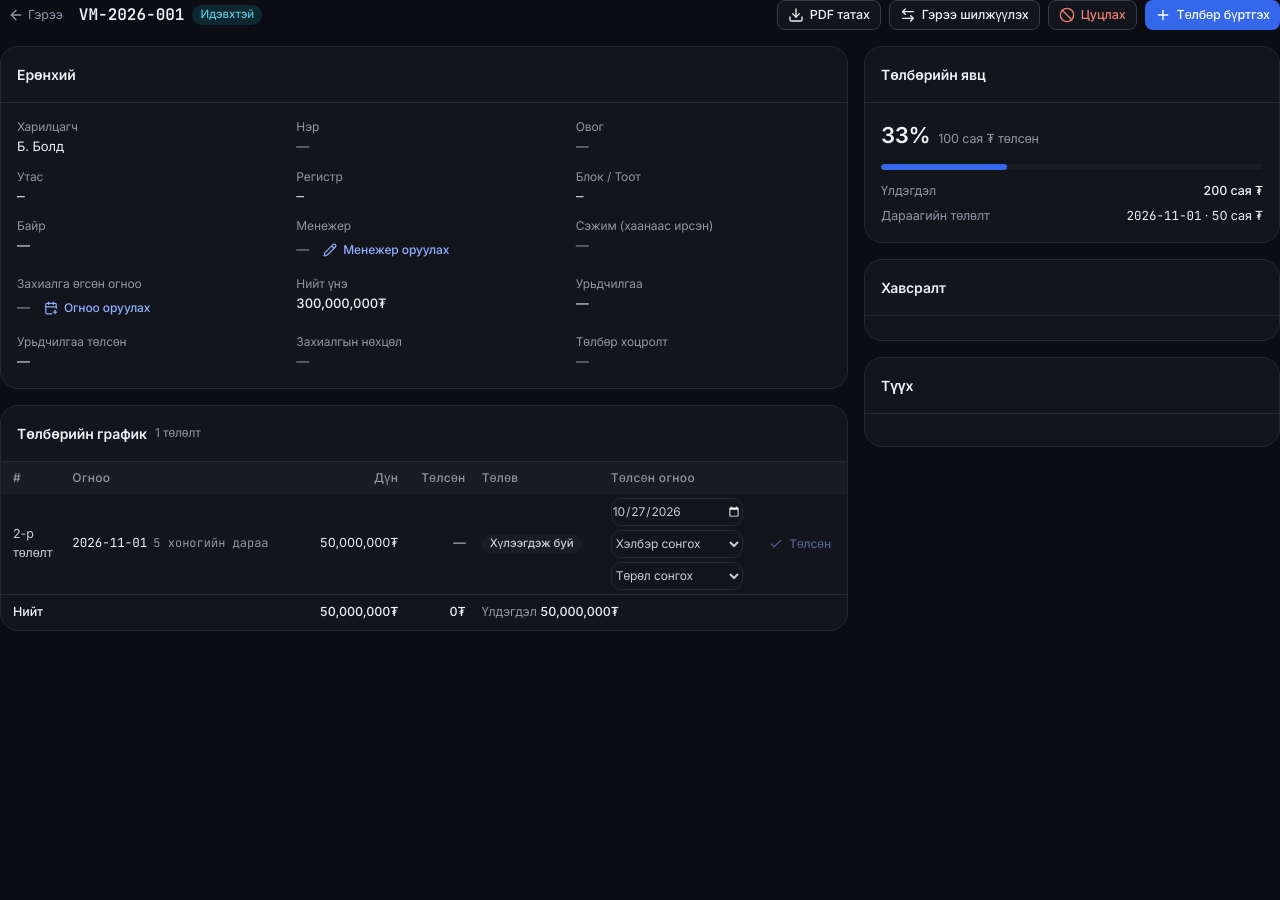
Test case: ContractDetail cancel and restore › states what cancelling does and sends nothing until confirmed
Click the button "Цуцлах" at (1092, 15), box top-left (1048, 0), bottom-right (1137, 30)
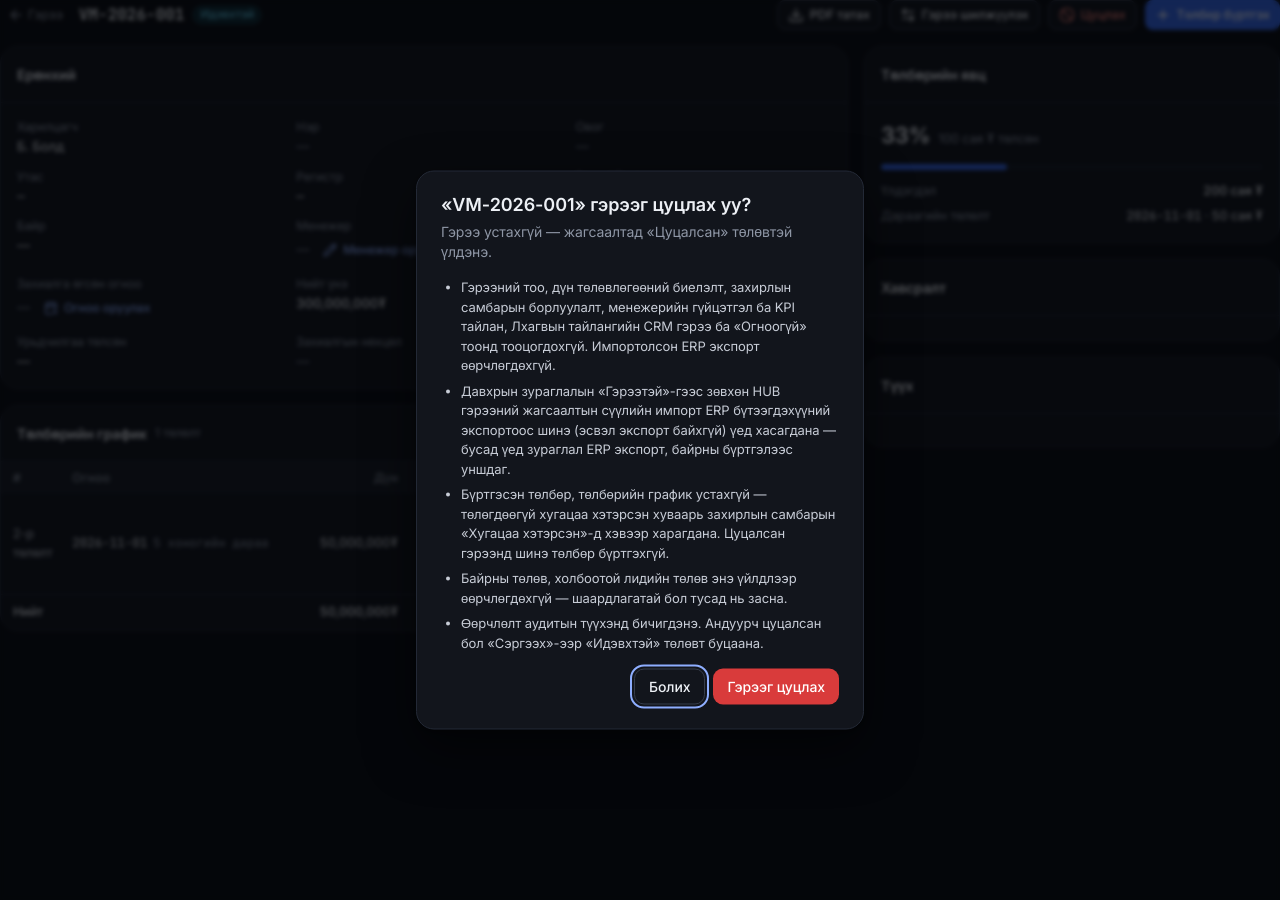
Check: the heading "«VM-2026-001» гэрээг цуцлах уу?" is shown, box top-left (441, 194), bottom-right (751, 214)
Check: the dialog shows "Гэрээ устахгүй", box top-left (441, 222), bottom-right (792, 260)
Check: the dialog shows "Гэрээний тоо, дүн төлөвлөгөөний биелэлт", box top-left (461, 278), bottom-right (807, 372)
Click the button "Болих" at (670, 686), box top-left (634, 668), bottom-right (706, 704)
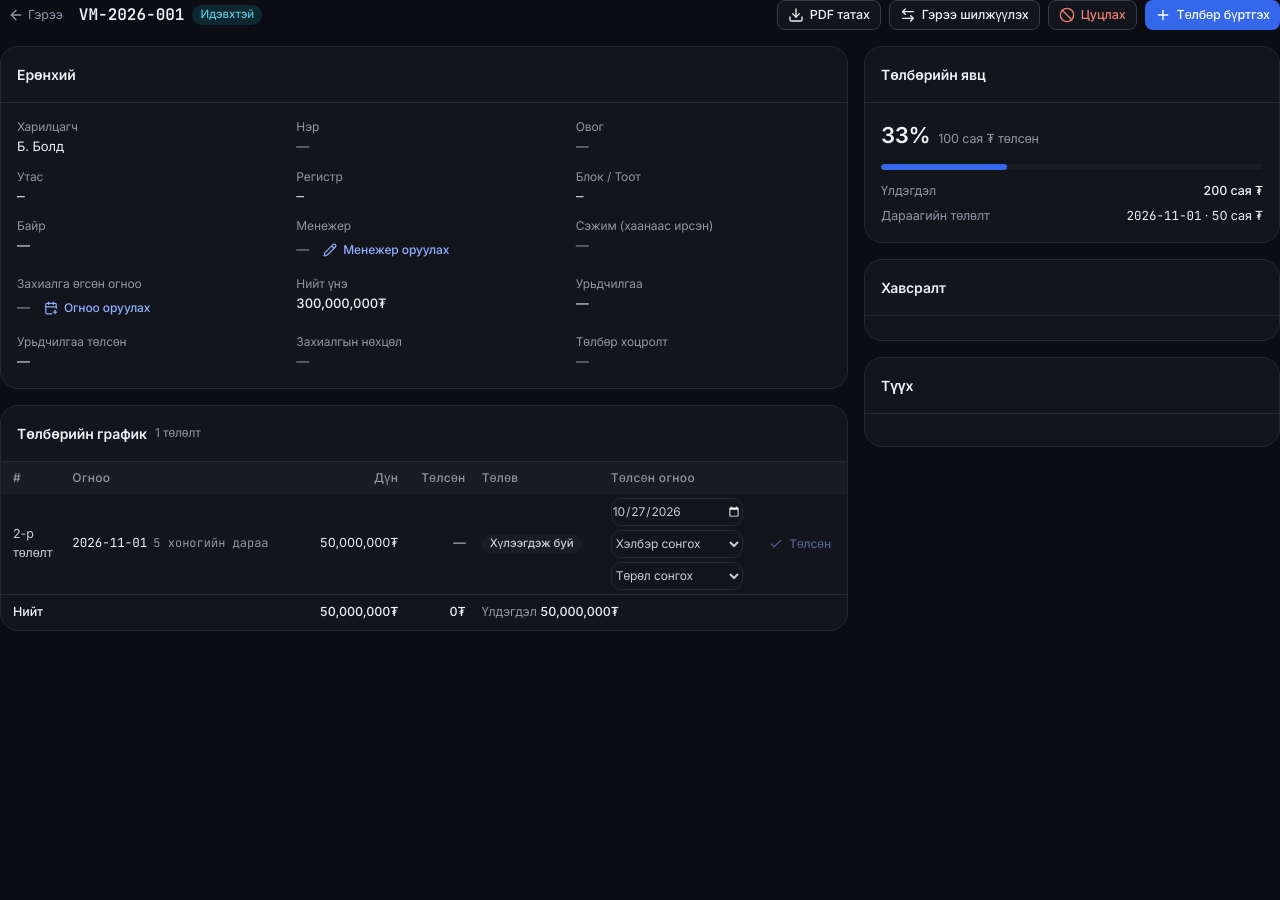
Check: the dialog is gone
